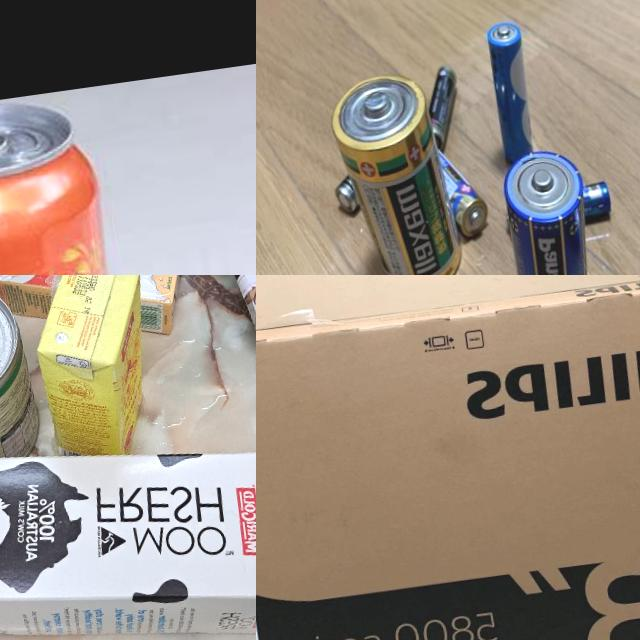bateria: (322, 61, 467, 275), (497, 146, 605, 275), (411, 130, 492, 246), (481, 15, 541, 166), (406, 62, 469, 156), (497, 186, 615, 233), (329, 166, 371, 221)
caixinha: (0, 404, 256, 640), (33, 275, 172, 461), (0, 275, 191, 360)
lata: (0, 87, 148, 275), (0, 275, 42, 479), (178, 275, 256, 379)
papelão: (256, 275, 640, 640)
